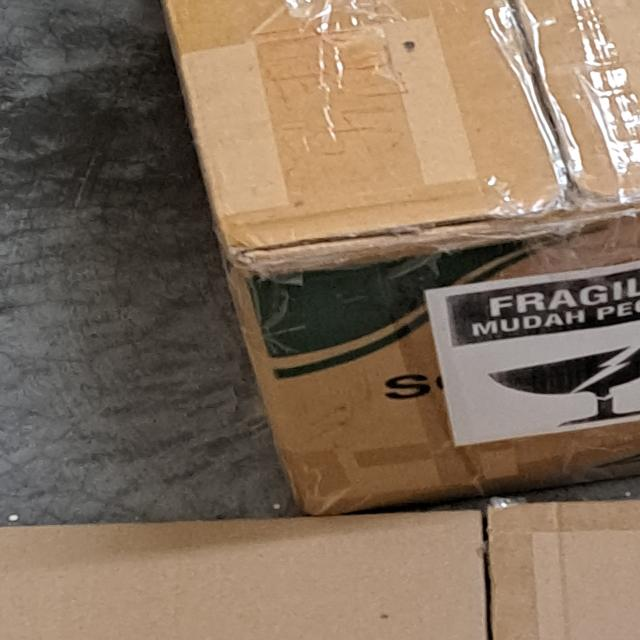cardboard: (155, 0, 639, 516), (0, 500, 640, 640)
